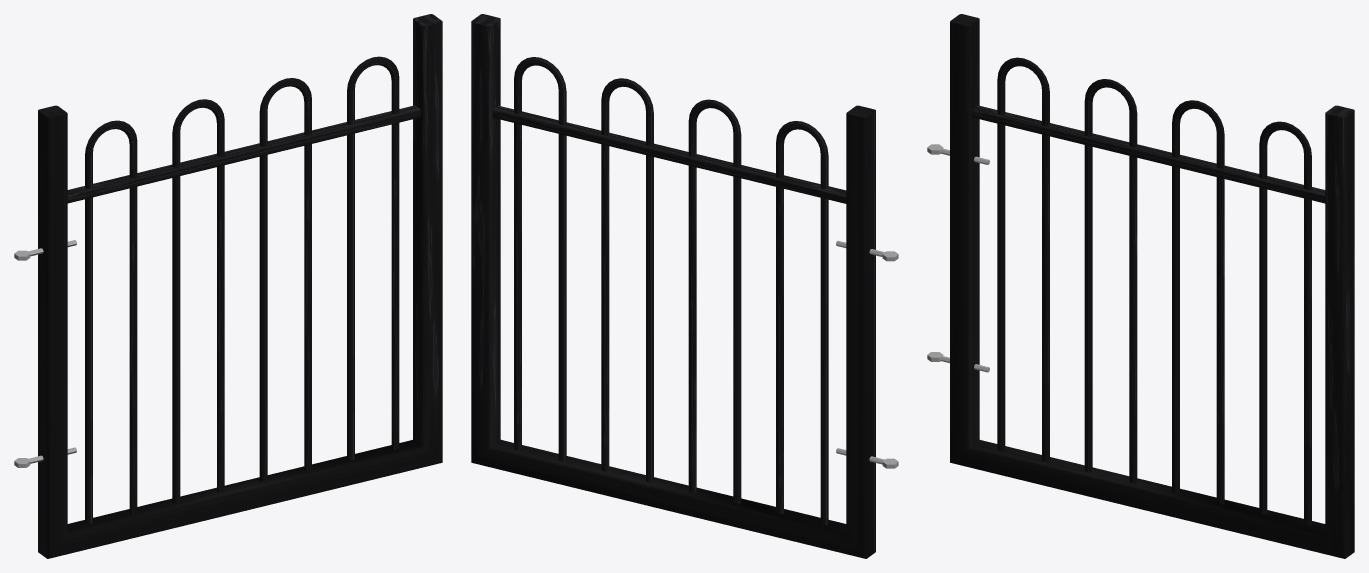
The model's file is fence_door.glb.
3 renders of one model, left to right at view 1: azimuth 30°, elevation 25°; view 2: azimuth 150°, elevation 25°; view 3: azimuth 330°, elevation 25°, orthographic.
Visible parts, largest first — view 1: Door; view 2: Door; view 3: Door.
Boxes of the visible parts, <box> form: Door: <box>14,14,442,558</box>; Door: <box>471,14,898,558</box>; Door: <box>927,14,1354,558</box>.
Bounding box in the file's own units: 10.71 × 10.73 × 0.507.
Materials: 2 (1 with a texture image).
